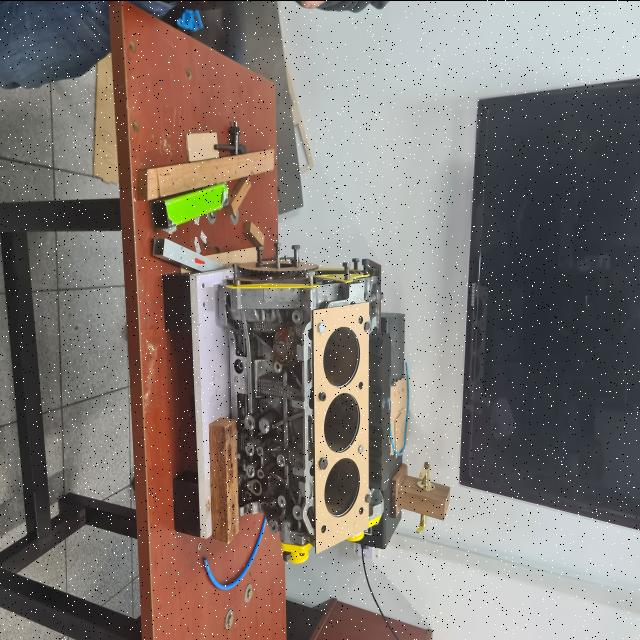vista1: (313, 301, 369, 552)
